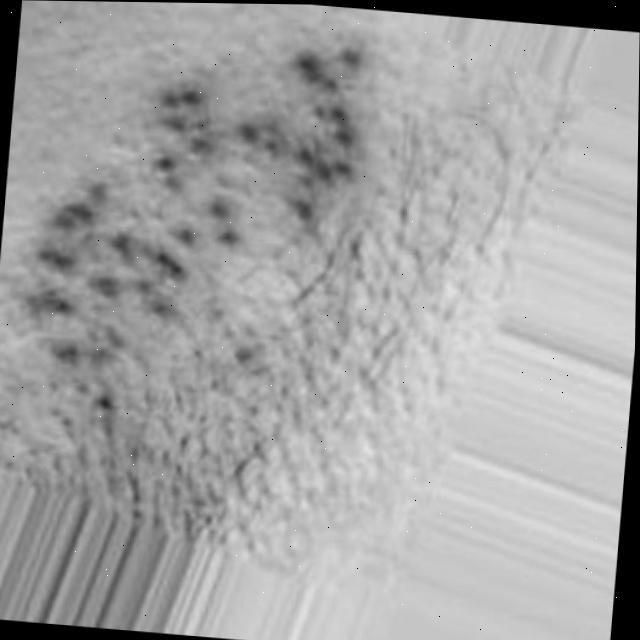Shingles: (19, 37, 356, 403)
